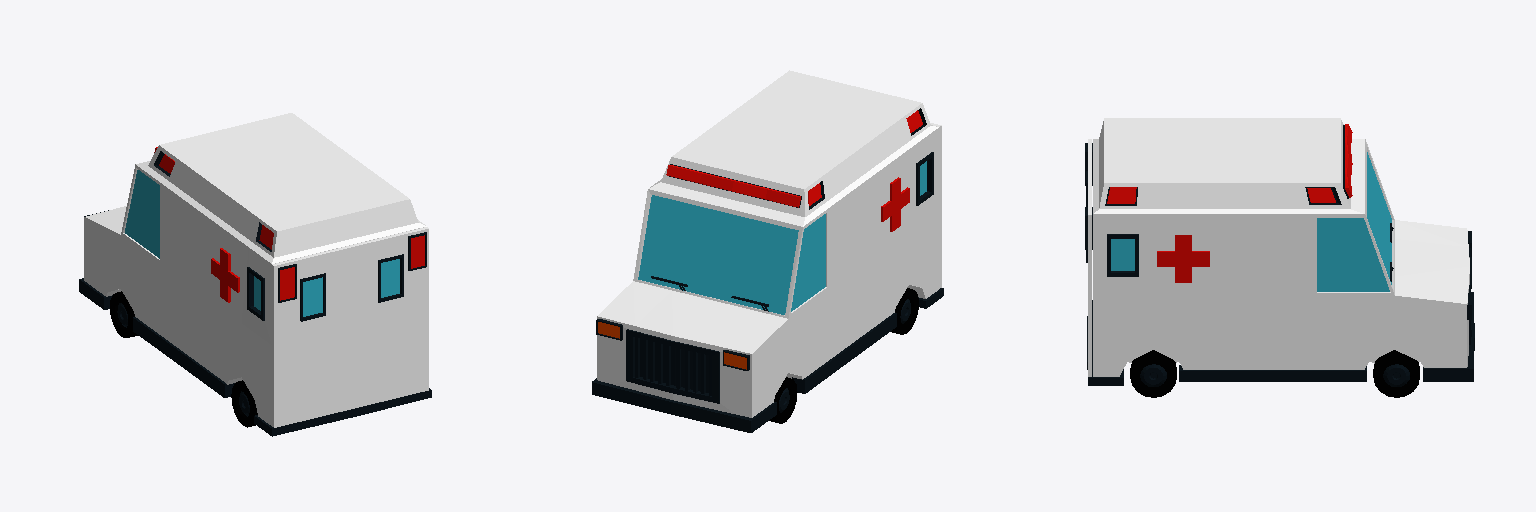
Rendered from Ambulance_01.obj.
3 renders of one model, left to right at view 1: azimuth 30°, elevation 25°; view 2: azimuth 150°, elevation 25°; view 3: azimuth 270°, elevation 25°, orthographic.
Parts seen in each view (by area): view 1: Ambulance_Circle.001; view 2: Ambulance_Circle.001; view 3: Ambulance_Circle.001.
Part boxes in pixels (bbox=[...]): Ambulance_Circle.001: bbox=[79, 113, 431, 436]; Ambulance_Circle.001: bbox=[592, 70, 943, 432]; Ambulance_Circle.001: bbox=[1085, 118, 1474, 397].
Size of the model in its own units: 7.84 by 9.8 by 16.47.